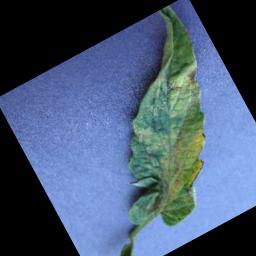Leaf_Mold: (124, 114, 230, 211), (163, 59, 211, 105)
